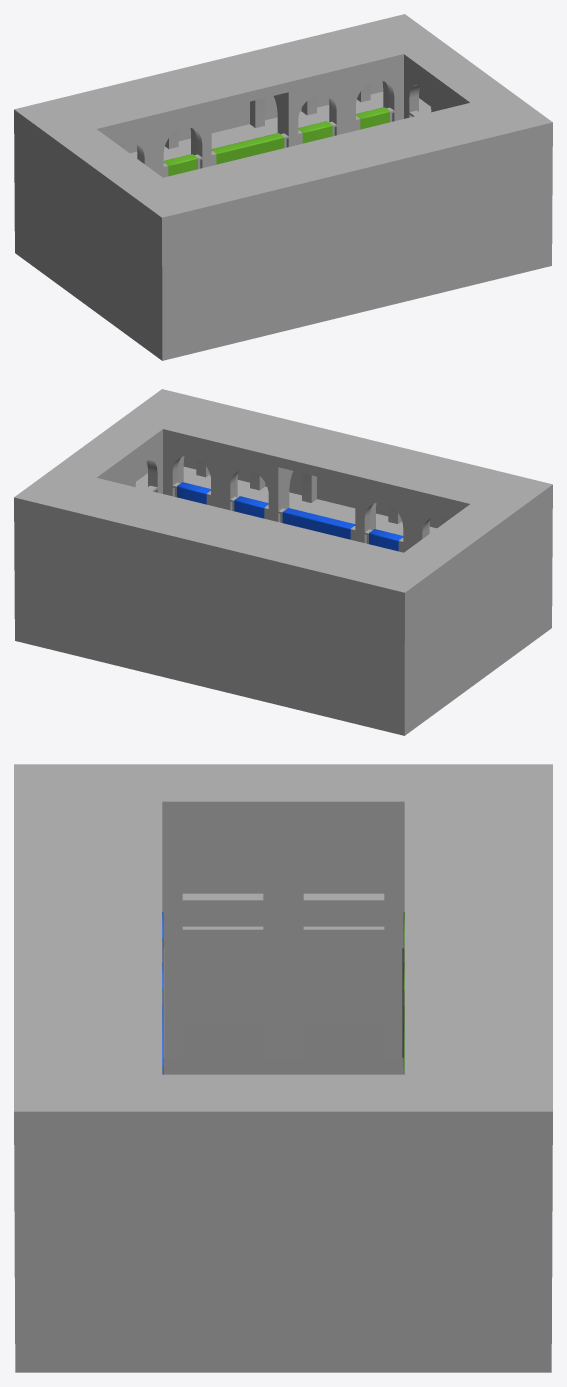
The model's file is Demo_Atrium_Model.fbx.
3 renders of one model, top to bottom at view 1: azimuth 30°, elevation 25°; view 2: azimuth 150°, elevation 25°; view 3: azimuth 270°, elevation 25°, orthographic. The views are drawn at different scales.
Visible parts, largest first — view 1: Main_Building, Roof, Arch_08, Green_Drapes, Arch_07, Floor_01, Arch_09, Balcony, Arch_15; view 2: Main_Building, Roof, Arch_11, Blue_Drapers, Arch_10, Floor_01, Arch_09, Arch_21, Balcony; view 3: Main_Building, Roof, Arch_06, Arch_00, Balcony, Floor_01.
Boxes of the visible parts, x1,y1,x2,y2 form: Main_Building: [14, 14, 552, 360]; Roof: [20, 16, 547, 215]; Arch_08: [283, 64, 403, 147]; Green_Drapes: [163, 107, 389, 176]; Arch_07: [107, 111, 211, 177]; Floor_01: [130, 91, 431, 160]; Arch_09: [404, 64, 459, 118]; Balcony: [153, 107, 421, 177]; Arch_15: [250, 93, 282, 133]; Main_Building: [14, 389, 552, 735]; Roof: [19, 391, 546, 590]; Arch_11: [163, 439, 283, 522]; Blue_Drapers: [177, 482, 403, 551]; Arch_10: [355, 486, 459, 552]; Floor_01: [135, 466, 436, 535]; Arch_09: [107, 439, 162, 493]; Arch_21: [284, 468, 316, 508]; Balcony: [145, 482, 412, 552]; Main_Building: [14, 764, 552, 1372]; Roof: [21, 767, 545, 1108]; Arch_06: [162, 820, 404, 929]; Arch_00: [162, 948, 404, 1057]; Balcony: [162, 893, 404, 926]; Floor_01: [162, 926, 404, 947].
Size of the model in its own units: 2035 by 714 by 1335.
